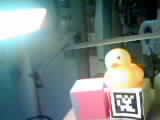duck: (102, 51, 143, 91)
